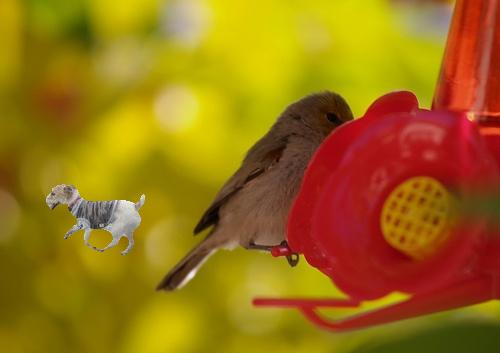tampered: (47, 185, 145, 255)
